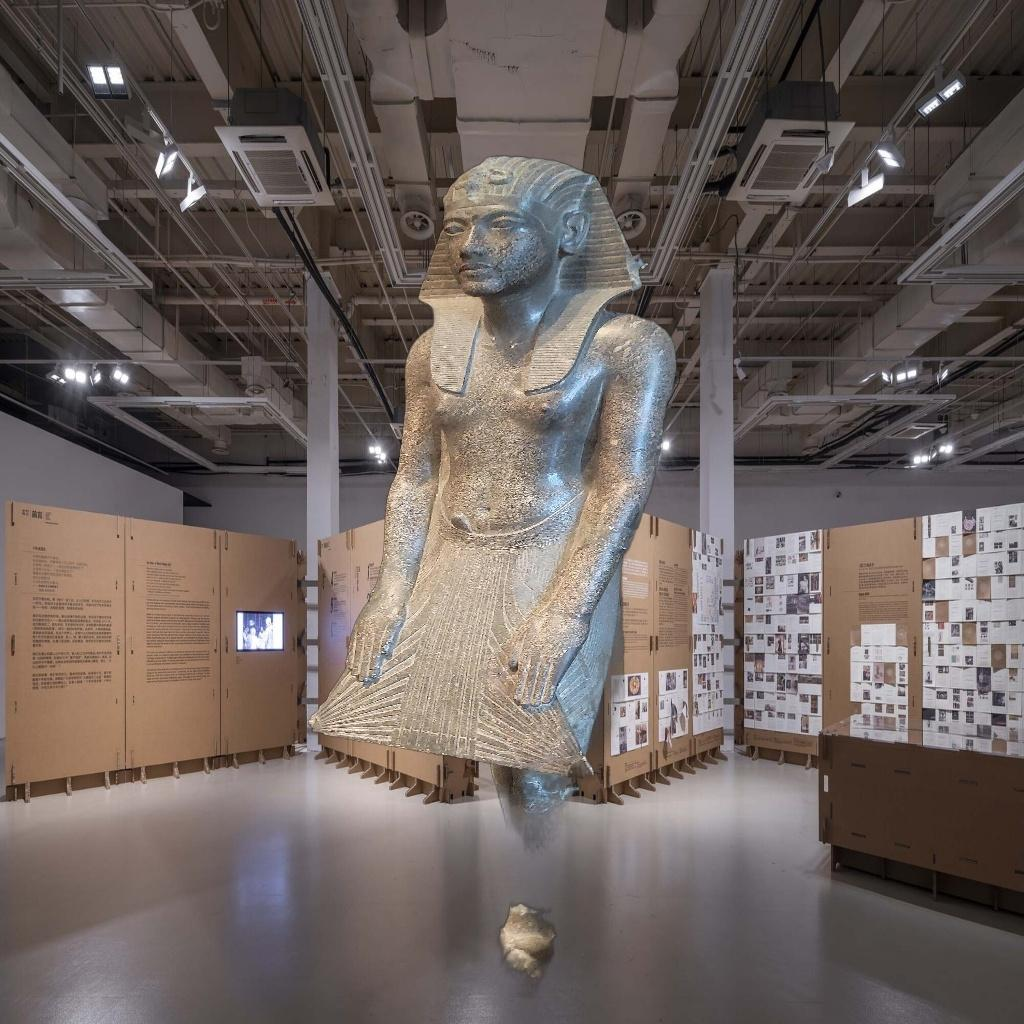Granite Statue of Tutankhamun: (305, 151, 682, 1021)
